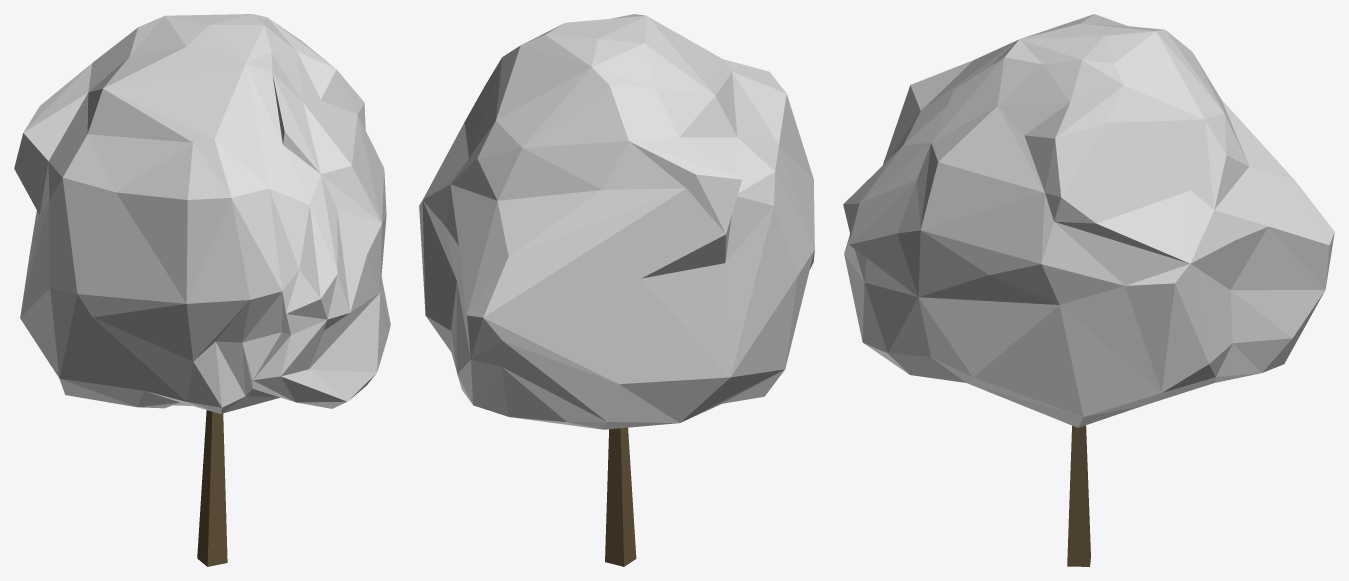
File: extra-large-tree-2.glb
The picture shows the model from 3 angles, left to right: view 1: azimuth 30°, elevation 25°; view 2: azimuth 150°, elevation 25°; view 3: azimuth 270°, elevation 25°; orthographic projection.
Visible parts, largest first — view 1: extra-large-tree-2; view 2: extra-large-tree-2; view 3: extra-large-tree-2.
Part boxes in pixels (left/top/right/bottom): extra-large-tree-2: left=14, top=14, right=390, bottom=566; extra-large-tree-2: left=419, top=14, right=814, bottom=566; extra-large-tree-2: left=843, top=14, right=1334, bottom=566.
Size of the model in its own units: 0.426 by 0.6623 by 0.556.
